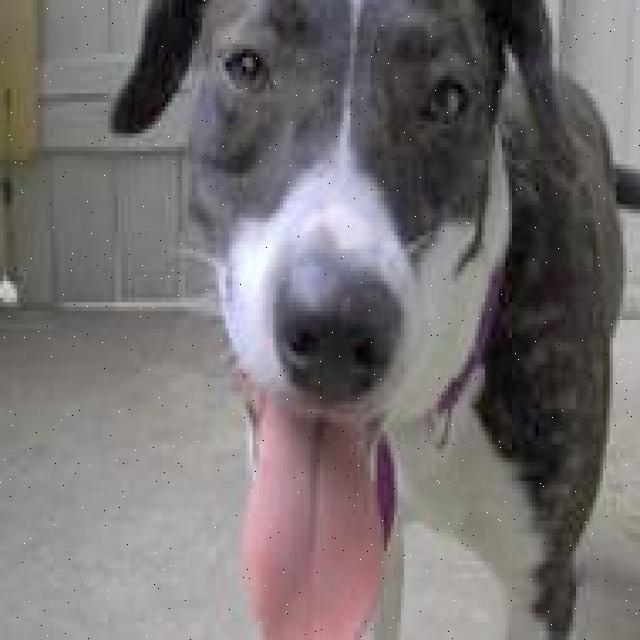Dog: (84, 0, 600, 640)
